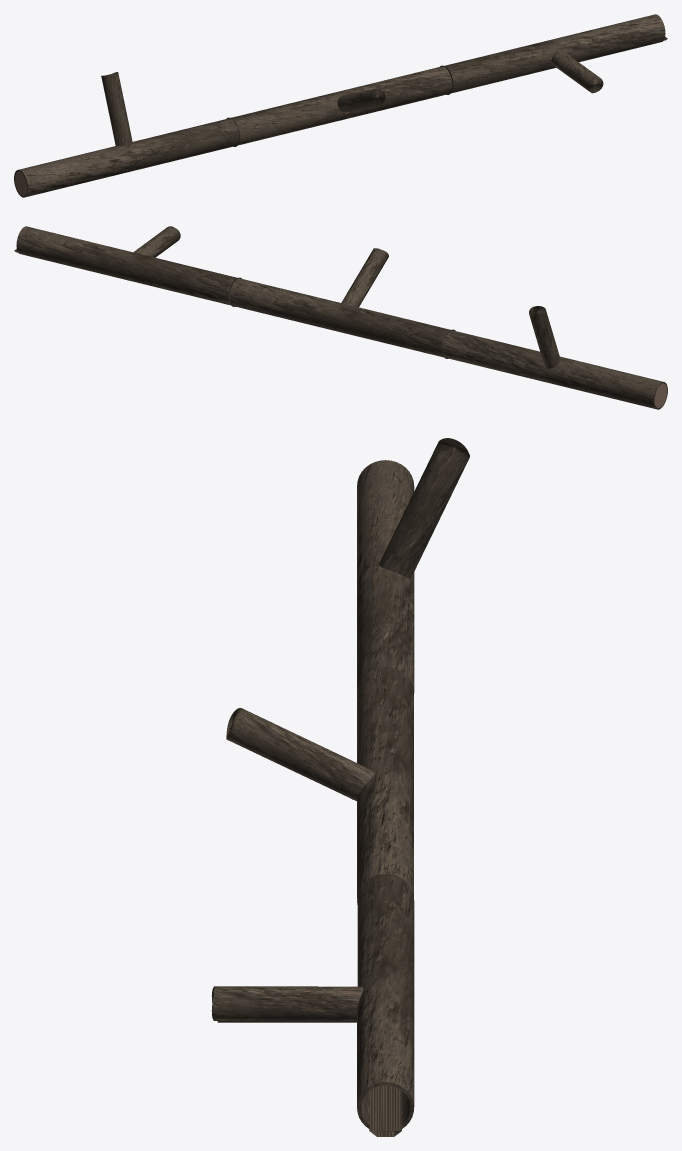
The model's file is SewerPipe.fbx.
3 views of the same model, one above another, from view 1: azimuth 30°, elevation 25°; view 2: azimuth 150°, elevation 25°; view 3: azimuth 270°, elevation 25° (orthographic). The views are drawn at different scales.
Parts seen in each view (by area): view 1: Cylinder, Cylinder.004, Cylinder.002, TF, TF.001, TF.003; view 2: Cylinder.004, Cylinder.002, Cylinder, TF.003, TF, TF.001; view 3: Cylinder.004, Cylinder.002, Cylinder, TF.003, TF.001, TF, Cube.
Part boxes in pixels (x1=…): Cylinder: x1=14, y1=118, x2=240, y2=197; Cylinder.004: x1=444, y1=14, x2=665, y2=93; Cylinder.002: x1=231, y1=66, x2=452, y2=145; TF: x1=101, y1=72, x2=132, y2=146; TF.001: x1=551, y1=49, x2=603, y2=92; TF.003: x1=337, y1=88, x2=385, y2=113; Cylinder.004: x1=16, y1=226, x2=237, y2=305; Cylinder.002: x1=229, y1=278, x2=450, y2=357; Cylinder: x1=441, y1=330, x2=667, y2=409; TF.003: x1=341, y1=248, x2=388, y2=307; TF: x1=529, y1=306, x2=560, y2=368; TF.001: x1=133, y1=226, x2=180, y2=257; Cylinder.004: x1=357, y1=875, x2=414, y2=1131; Cylinder.002: x1=357, y1=667, x2=413, y2=899; Cylinder: x1=357, y1=460, x2=414, y2=692; TF.003: x1=226, y1=708, x2=374, y2=801; TF.001: x1=211, y1=986, x2=363, y2=1021; TF: x1=379, y1=438, x2=469, y2=578; Cube: x1=369, y1=1085, x2=401, y2=1136.
Size of the model in its own units: 5197 by 672 by 904.
16 materials, 12 textured.
